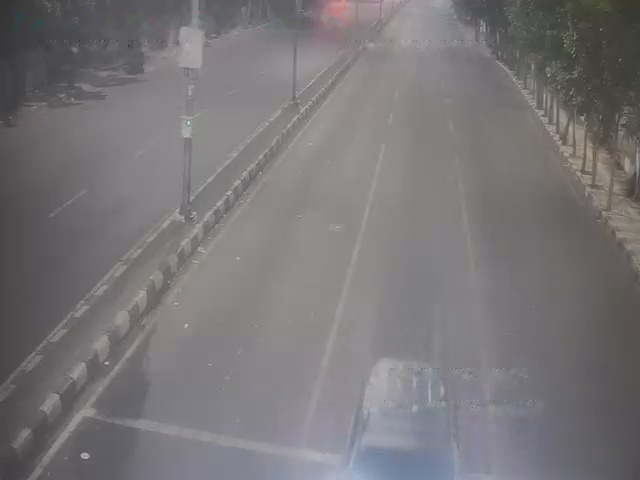Mobil: (333, 358, 477, 479)
